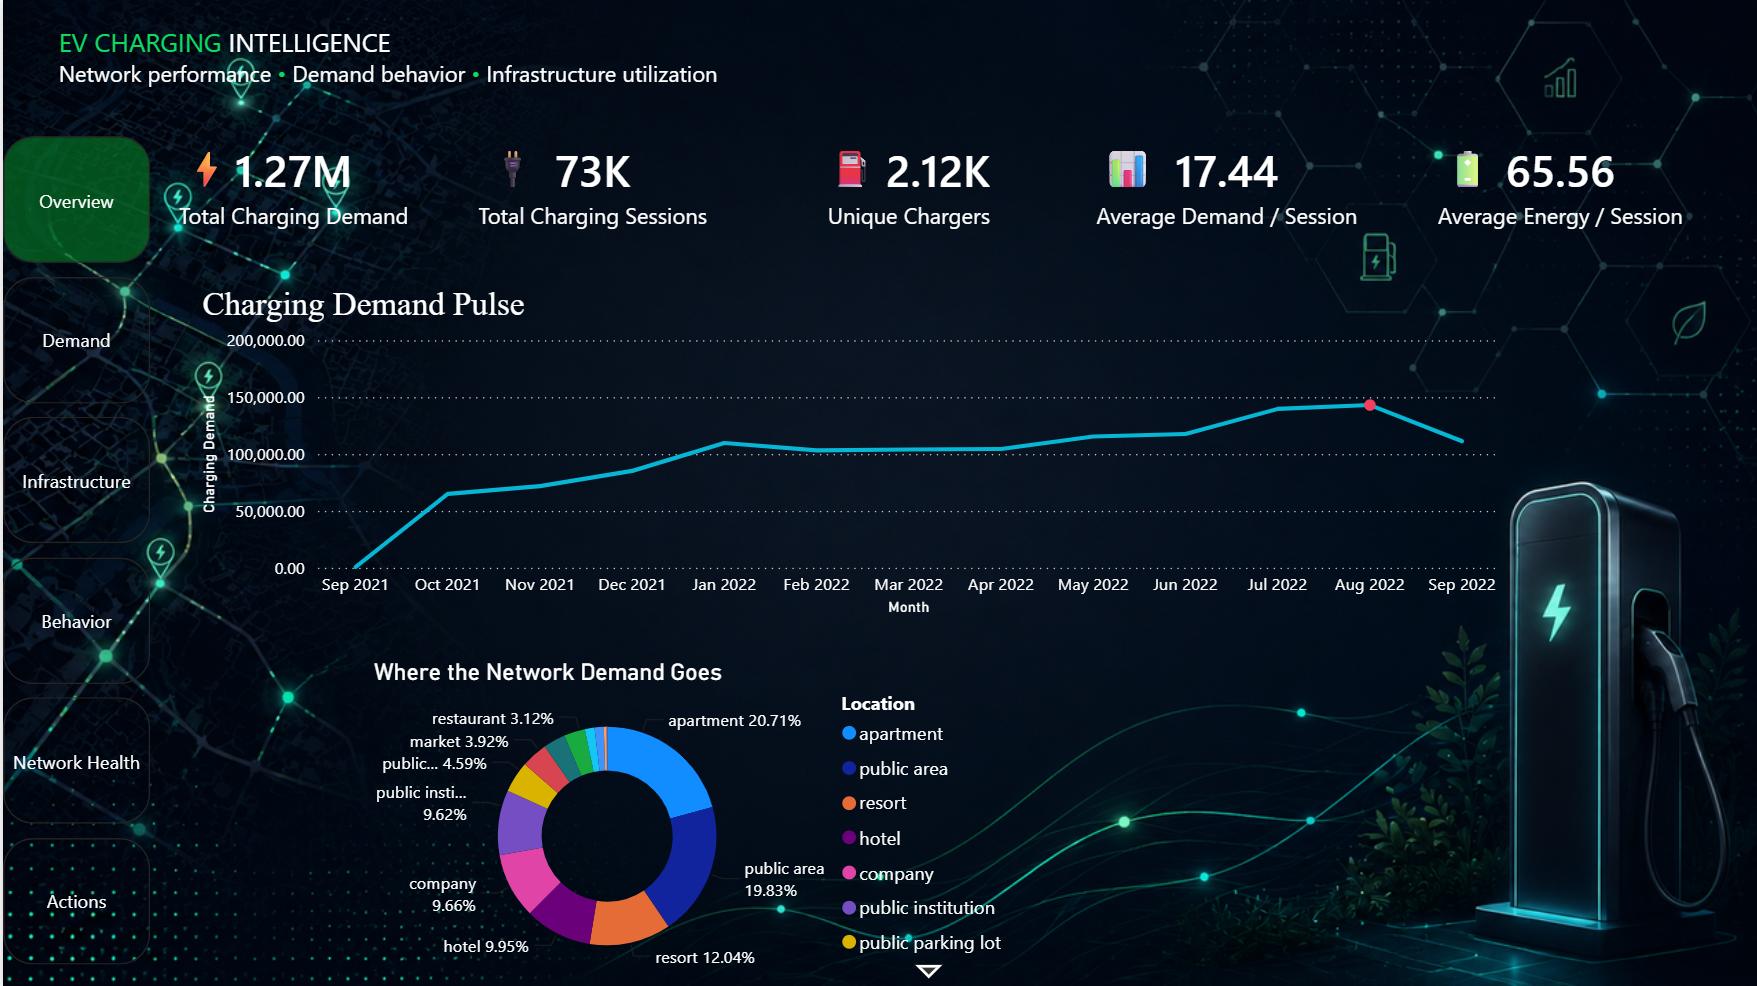

The page's visual inventory and layout, read from the dashboard file:
{"tool":"powerbi","page":{"name":"Overview","canvas":[1280,720],"ordinal":0},"visuals":[{"type":"cardVisual","fields":{"Data":["Calculation_tbl.Total Charging Sessions"]},"box":[315.9,72.1,226,125.4],"z":0,"group":"g1"},{"type":"pageNavigator","box":[0,99.4,107.9,604.7],"z":0},{"type":"textbox","box":[35,13,535.4,70.8],"z":1000},{"type":"cardVisual","fields":{"Data":["Calculation_tbl.Total Charging Demand"]},"box":[95.2,72.1,232.5,125.4],"z":1000,"group":"g1"},{"type":"lineChart","title":"Charging Demand Pulse","fields":{"Category":["Dim_Date.Month Year"],"Y":["Calculation_tbl.Total Charging Demand"]},"box":[140.1,207.9,954.2,245.6],"z":2000,"group":"g1"},{"type":"group","id":"g1","title":"Group_Overview","box":[95.2,72.1,1162.4,647.1],"z":3000},{"type":"cardVisual","fields":{"Data":["Calculation_tbl.Average Demand per Session"]},"box":[758.7,72.1,262.5,125.4],"z":3000,"group":"g1"},{"type":"cardVisual","fields":{"Data":["Calculation_tbl.Average Energy per Session"]},"box":[1008.2,72.1,249.5,125.4],"z":4000,"group":"g1"},{"type":"textbox","box":[125.5,99.4,60.3,68.5],"z":4000},{"type":"cardVisual","fields":{"Data":["Calculation_tbl.Unique Chargers"]},"box":[541.9,72.1,205.1,125.4],"z":5000,"group":"g1"},{"type":"textbox","box":[347.2,99.4,50.5,50.5],"z":5000},{"type":"textbox","box":[593.6,98.9,45.8,109.8],"z":6000},{"type":"donutChart","title":"Where the Network Demand Goes","fields":{"Category":["Fact_Charging_Records.Location"],"Y":["Calculation_tbl.Total Charging Demand"]},"box":[264.2,478.3,476.1,240.9],"z":6000,"group":"g1"},{"type":"textbox","box":[787.4,99.4,76.6,68.5],"z":7000},{"type":"textbox","box":[1041.7,99.4,52.2,132],"z":8000}]}

Visuals, with their boxes in screenshot pixels (x1, y1, x2, y2), scaled from the page's 1280x720 canvas onto the 1757x986 screenshot:
cardVisual - Calculation_tbl.Total Charging Sessions: 434,99,744,270
pageNavigator: 0,136,148,964
textbox: 48,18,783,115
cardVisual - Calculation_tbl.Total Charging Demand: 131,99,450,270
"Charging Demand Pulse" lineChart: 192,285,1502,621
"Group_Overview" group: 131,99,1726,985
cardVisual - Calculation_tbl.Average Demand per Session: 1041,99,1402,270
cardVisual - Calculation_tbl.Average Energy per Session: 1384,99,1726,270
textbox: 172,136,255,230
cardVisual - Calculation_tbl.Unique Chargers: 744,99,1025,270
textbox: 477,136,546,205
textbox: 815,135,878,286
"Where the Network Demand Goes" donutChart: 363,655,1016,985
textbox: 1081,136,1186,230
textbox: 1430,136,1502,317
